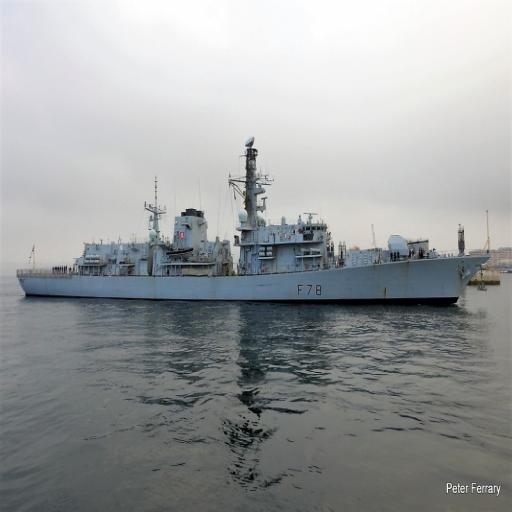Fragata: (15, 134, 494, 314)
